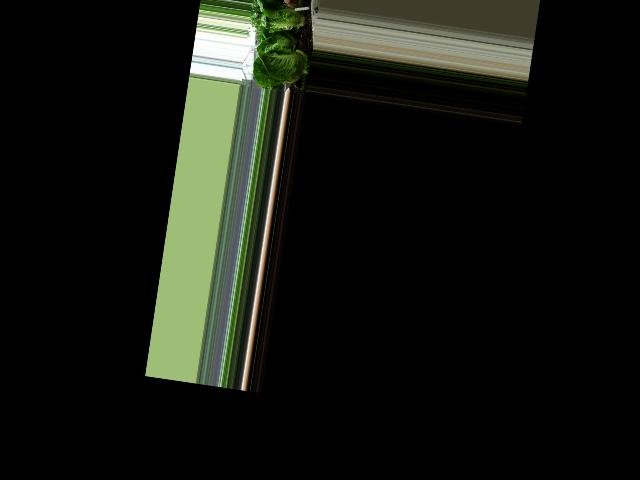lettuce: (253, 1, 313, 39)
